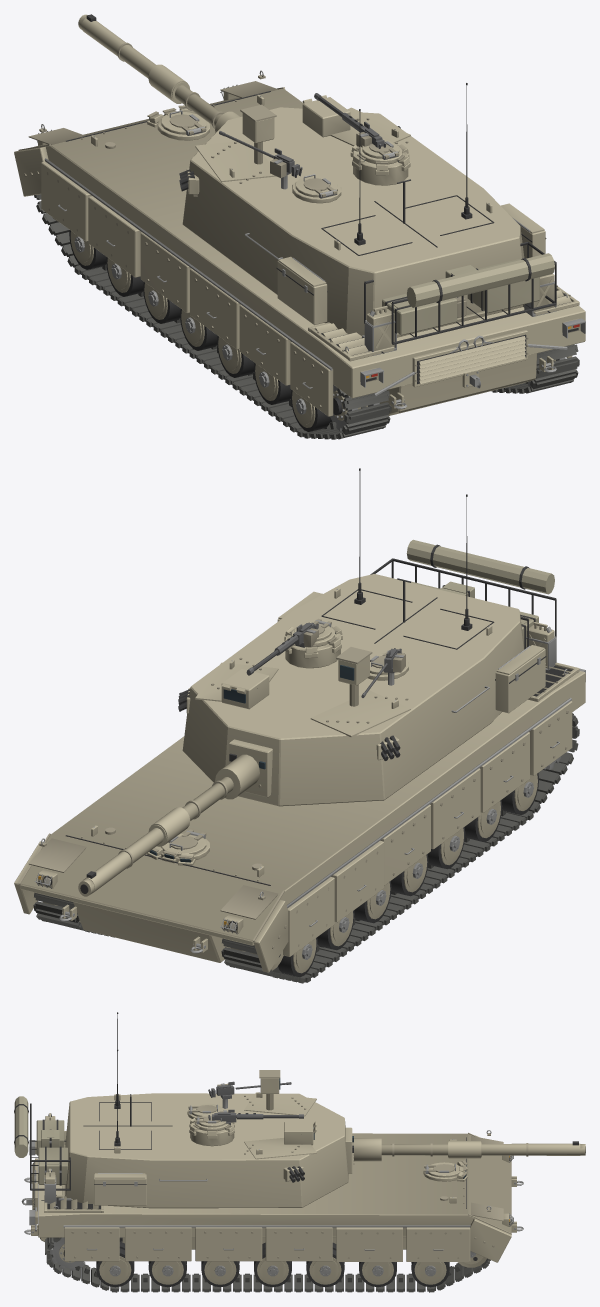
File: tank_usa.glb
3 renders of one model, top to bottom at view 1: azimuth 30°, elevation 25°; view 2: azimuth 150°, elevation 25°; view 3: azimuth 270°, elevation 25°, orthographic. The views are drawn at different scales.
Parts seen in each view (by area): view 1: body, turret, barrel; view 2: body, turret, barrel; view 3: body, turret, barrel.
Boxes of the visible parts, left/top/right/bottom form: body: left=14, top=70, right=585, bottom=439; turret: left=179, top=83, right=556, bottom=344; barrel: left=78, top=14, right=240, bottom=132; body: left=14, top=622, right=585, bottom=983; turret: left=178, top=468, right=556, bottom=806; barrel: left=78, top=754, right=259, bottom=896; body: left=21, top=1113, right=523, bottom=1292; turret: left=14, top=1012, right=354, bottom=1208; barrel: left=354, top=1138, right=585, bottom=1161.
Bounding box in the file's own units: 3.49 × 4.09 × 9.58.
